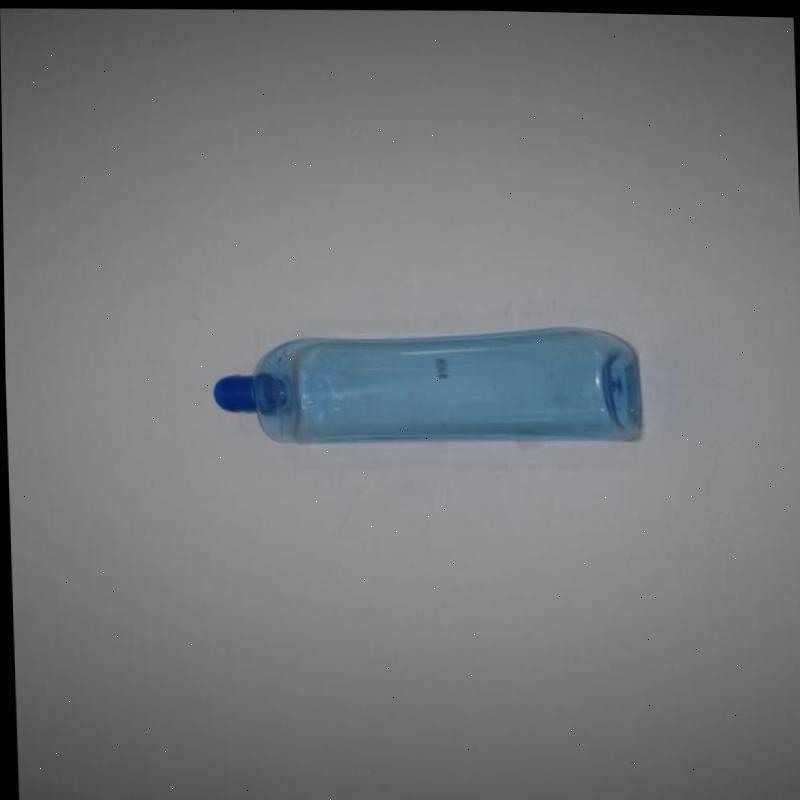botella: (207, 316, 651, 452)
